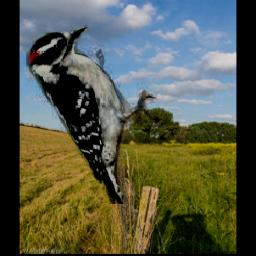Woodpecker: (26, 25, 164, 204)
